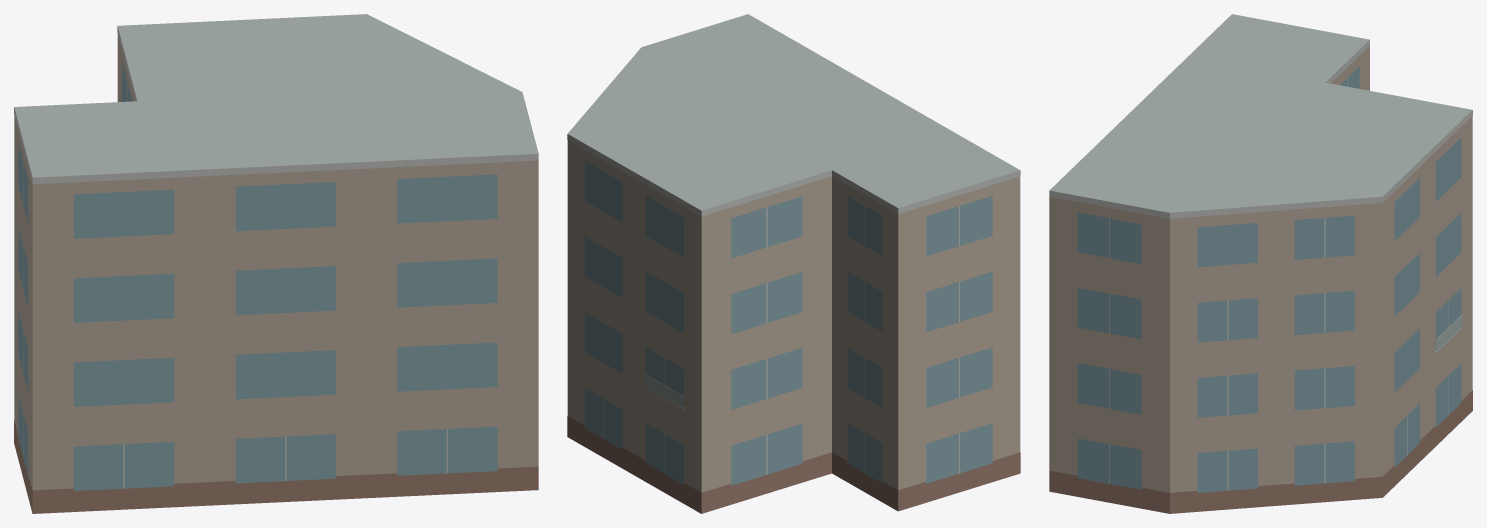
File: residential-d6fff0a6-352f-41b1-b68a-0569cb2afeff.glb
The picture shows the model from 3 angles, left to right: view 1: azimuth 30°, elevation 25°; view 2: azimuth 150°, elevation 25°; view 3: azimuth 270°, elevation 25°; orthographic projection. The views are drawn at different scales.
Parts seen in each view (by area): view 1: residential-d6fff0a6-352f-41b1-b68a-0569cb2afeff.tmp; view 2: residential-d6fff0a6-352f-41b1-b68a-0569cb2afeff.tmp; view 3: residential-d6fff0a6-352f-41b1-b68a-0569cb2afeff.tmp.
Part boxes in pixels (box(x1,y1,x2,y2)): residential-d6fff0a6-352f-41b1-b68a-0569cb2afeff.tmp: box(14, 14, 538, 513); residential-d6fff0a6-352f-41b1-b68a-0569cb2afeff.tmp: box(567, 14, 1020, 513); residential-d6fff0a6-352f-41b1-b68a-0569cb2afeff.tmp: box(1049, 14, 1472, 513).
Size of the model in its own units: 17.29 by 12.2 by 15.56.
